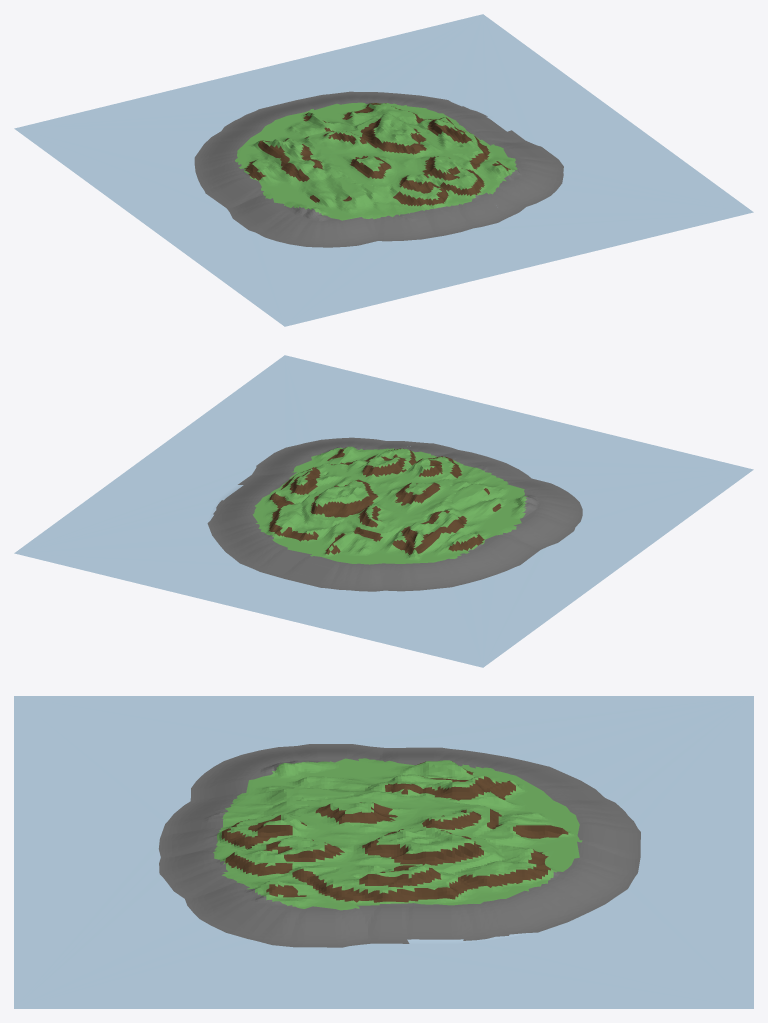
File: Map 1.glb
The picture shows the model from 3 angles, top to bottom: view 1: azimuth 30°, elevation 25°; view 2: azimuth 150°, elevation 25°; view 3: azimuth 270°, elevation 25°; orthographic projection. The views are drawn at different scales.
Parts seen in each view (by area): view 1: Landscape; view 2: Landscape; view 3: Landscape.
Part boxes in pixels (left/top/right/bottom): Landscape: left=14, top=14, right=753, bottom=326; Landscape: left=14, top=355, right=753, bottom=667; Landscape: left=14, top=696, right=753, bottom=1008.
Bounding box in the file's own units: 12 × 0.6344 × 12.
